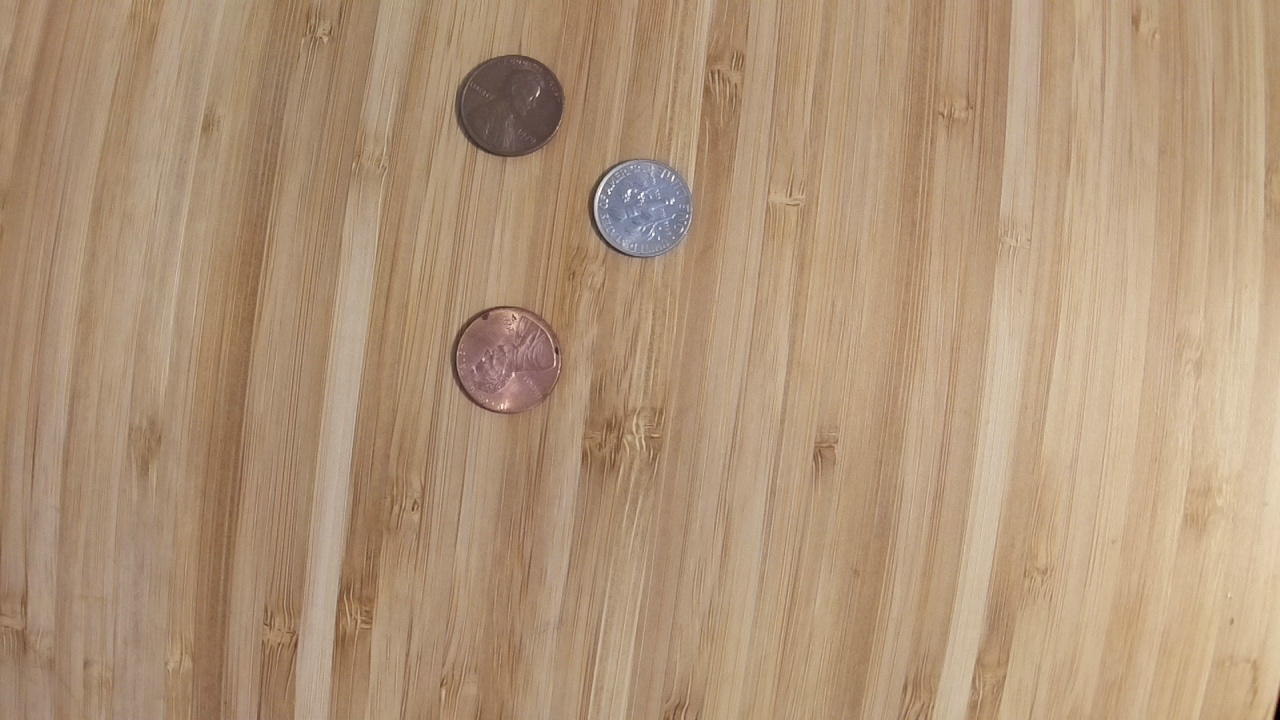dime: (588, 157, 694, 259)
penny: (448, 304, 564, 416), (450, 52, 568, 158)
